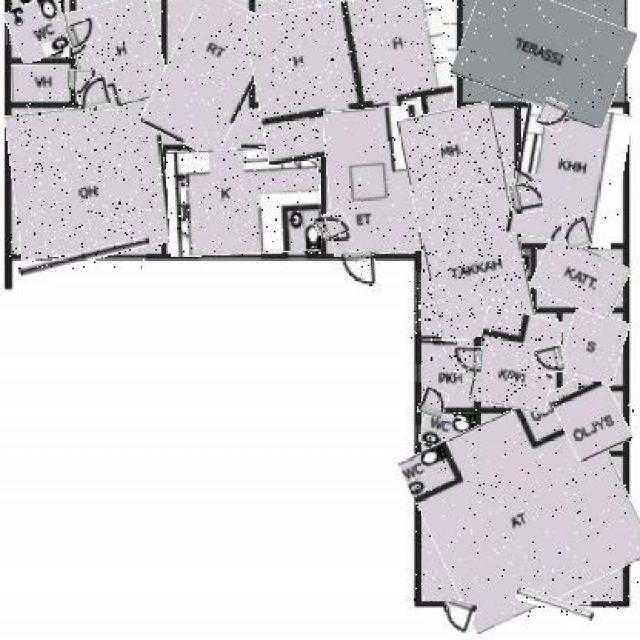door: (341, 251, 377, 289), (443, 598, 477, 634), (509, 181, 543, 214), (66, 17, 102, 46), (77, 77, 109, 108), (316, 211, 350, 240), (537, 100, 568, 131), (563, 216, 591, 250), (534, 346, 568, 374), (420, 388, 448, 417), (454, 346, 484, 372), (68, 69, 99, 86)
window: (18, 245, 151, 269), (515, 592, 594, 617)
zone: (412, 397, 638, 617), (249, 0, 454, 157), (409, 105, 526, 340), (9, 103, 168, 257), (455, 0, 630, 115), (152, 0, 266, 152), (168, 148, 322, 255), (512, 103, 626, 246), (326, 108, 428, 255), (69, 0, 165, 106), (474, 311, 560, 411), (534, 241, 626, 314), (557, 381, 628, 457), (563, 314, 626, 384), (7, 0, 72, 58), (422, 338, 471, 408), (420, 412, 475, 451), (11, 65, 71, 100)
